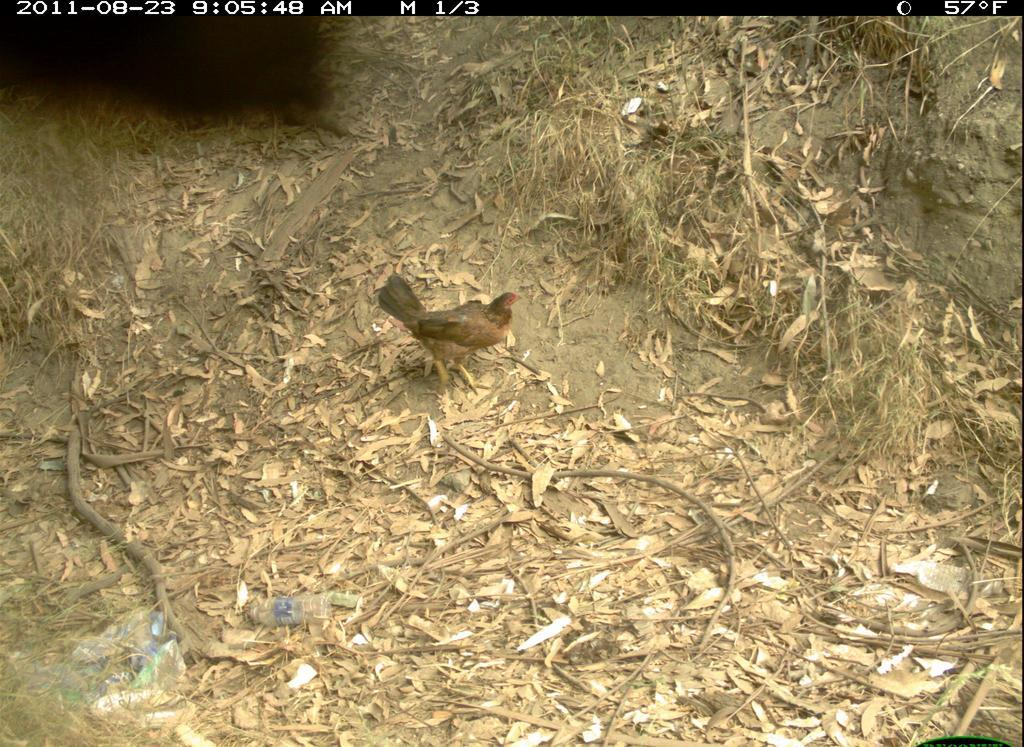bird: (363, 260, 530, 400)
